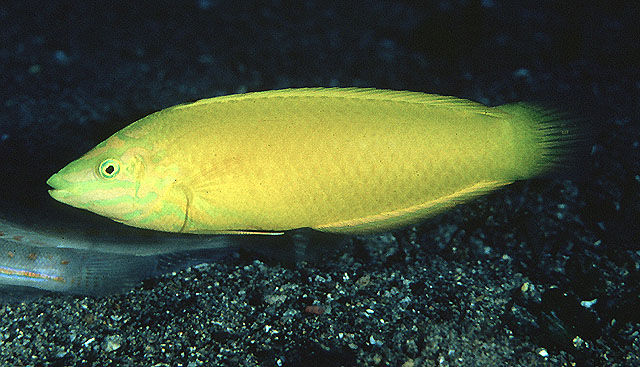fish: (47, 87, 585, 236)
